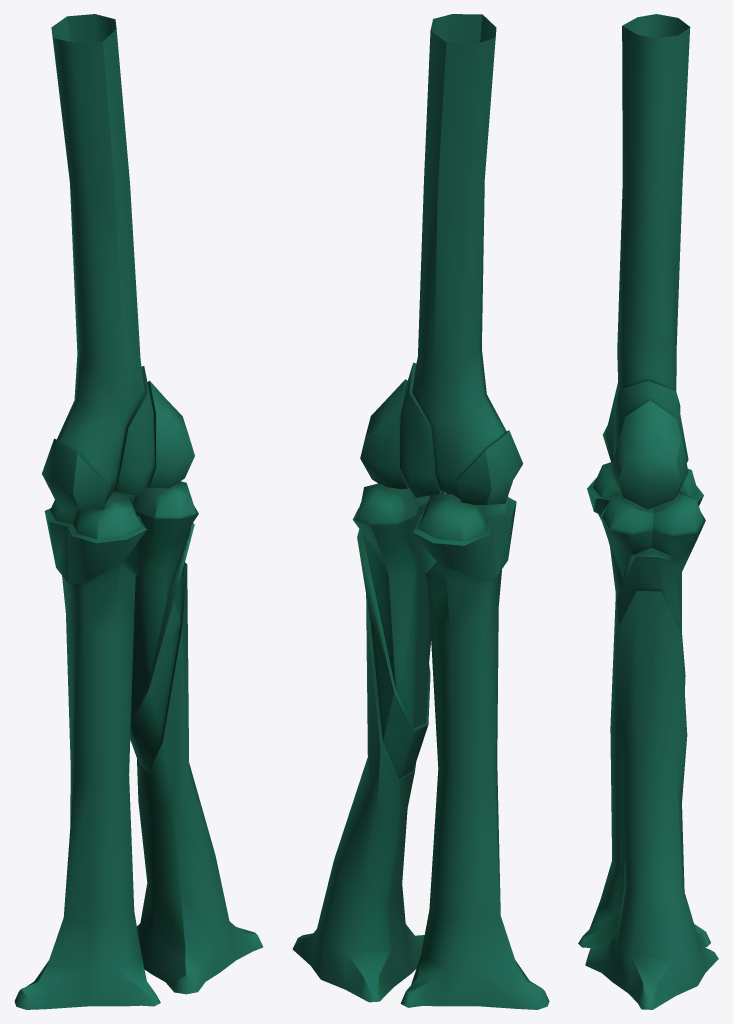
The model's file is pillar.fbx.
The picture shows the model from 3 angles, left to right: view 1: azimuth 30°, elevation 25°; view 2: azimuth 150°, elevation 25°; view 3: azimuth 270°, elevation 25°; orthographic projection. The views are drawn at different scales.
Parts seen in each view (by area): view 1: pillar_geo; view 2: pillar_geo; view 3: pillar_geo.
Part boxes in pixels (<box>): pillar_geo: <box>14,14,262,1009</box>; pillar_geo: <box>292,14,549,1009</box>; pillar_geo: <box>578,14,718,1009</box>.
Size of the model in its own units: 189 by 697 by 98.16.
Materials: 1 (1 with a texture image).
